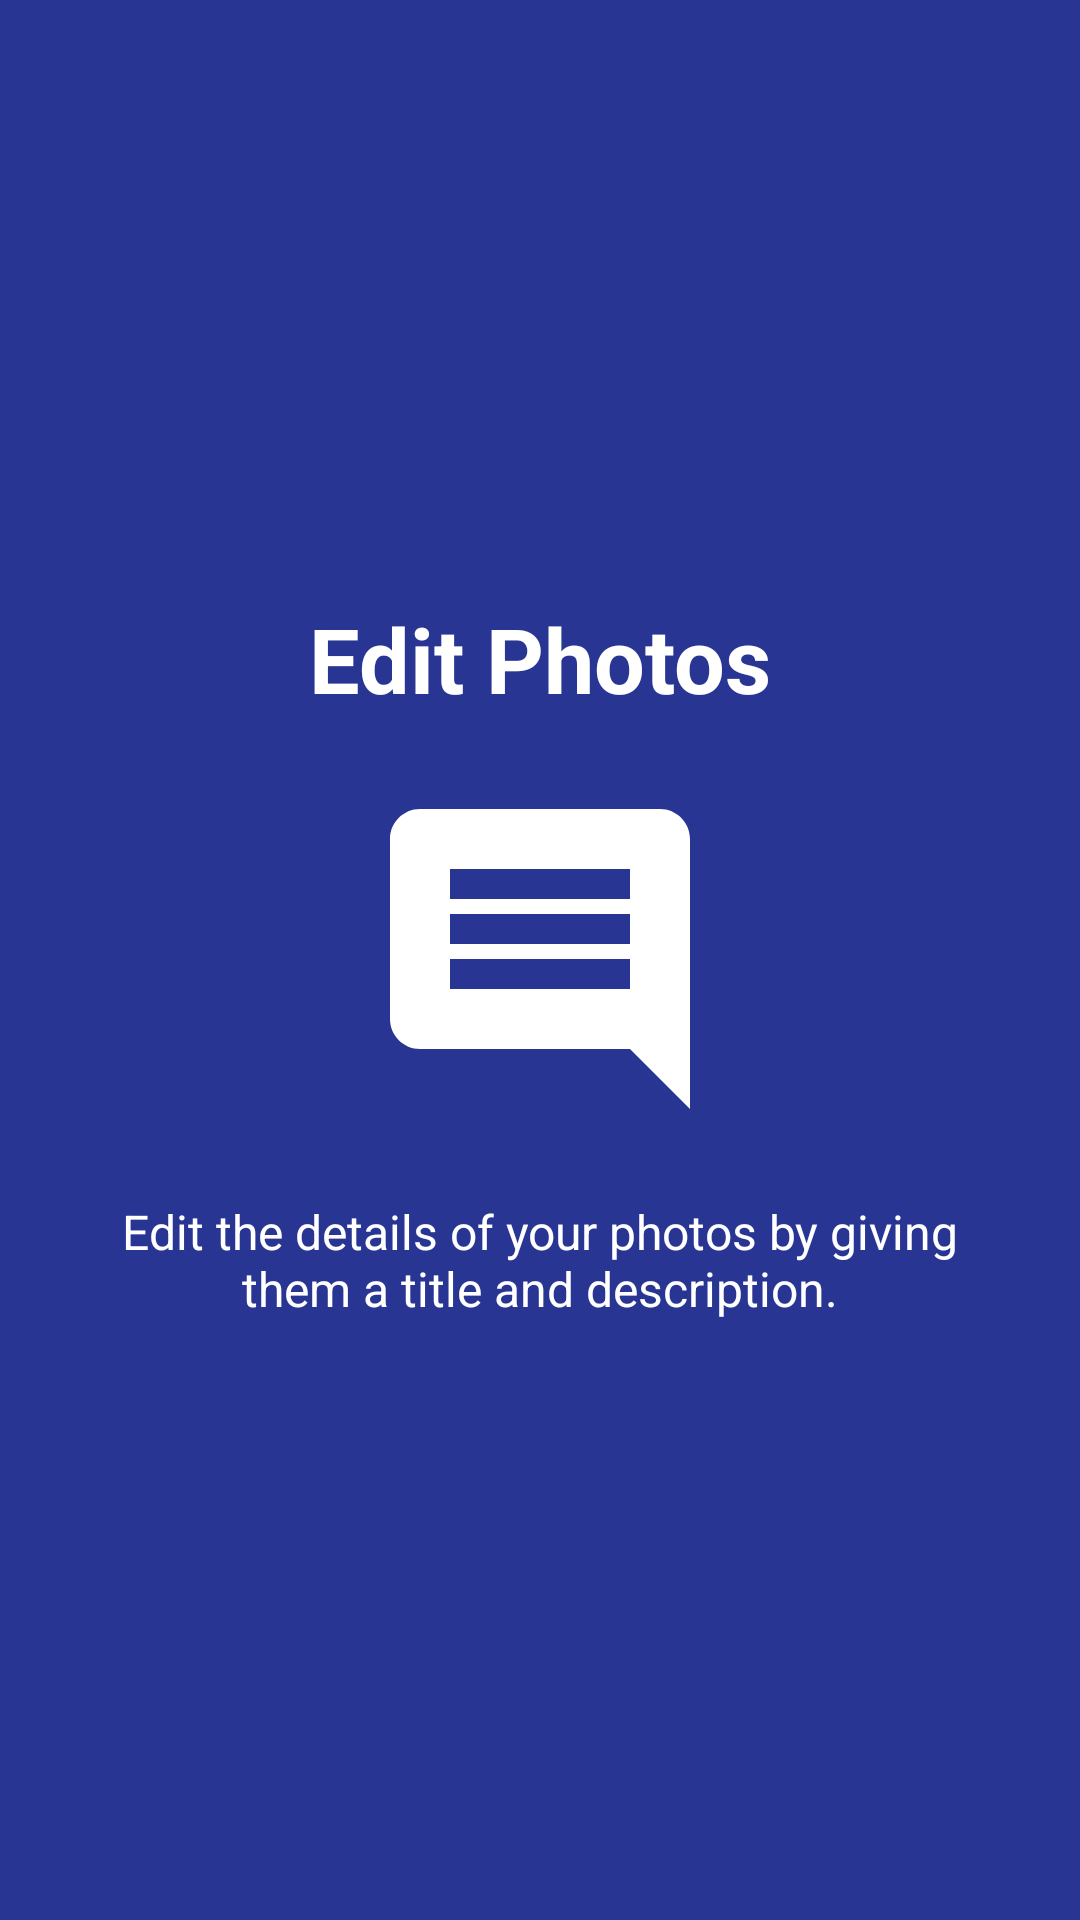

Where to tap for icons on this 1080w x 1920h app screen, as (x=x, y=y):
insert comment: (x=540, y=959)
